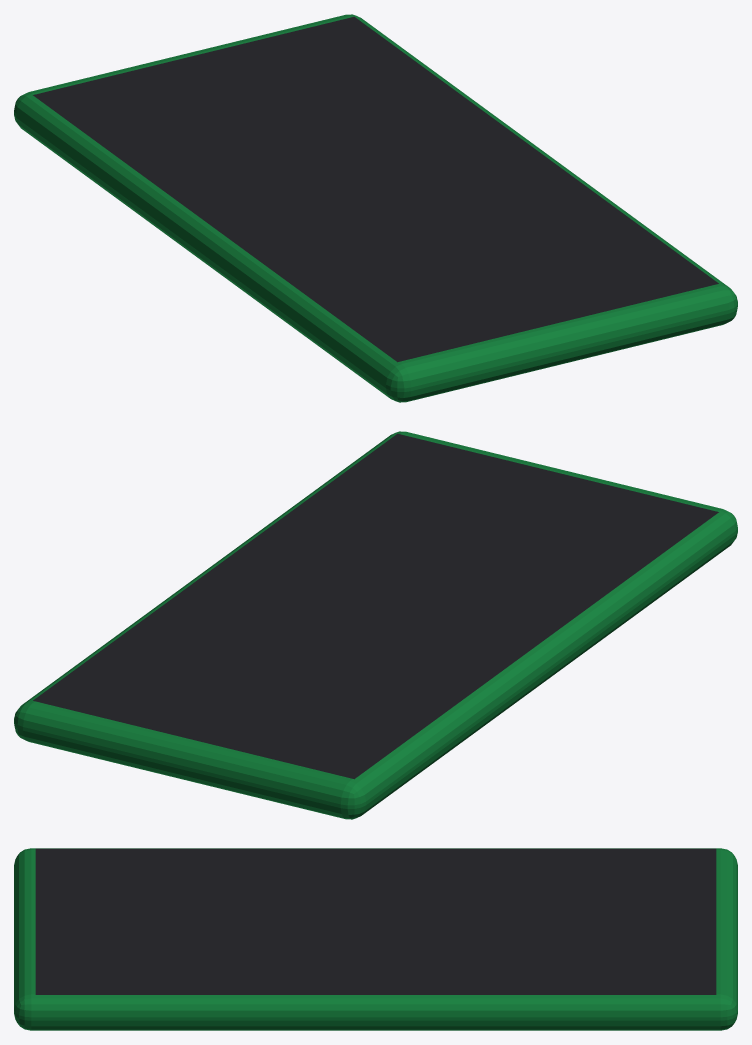
Rendered from oppo-f-model-342-flagship-2026.glb.
3 views of the same model, one above another, from view 1: azimuth 30°, elevation 25°; view 2: azimuth 150°, elevation 25°; view 3: azimuth 270°, elevation 25° (orthographic). The views are drawn at different scales.
Visible parts, largest first — view 1: Phone_Screen, Phone_Body; view 2: Phone_Screen, Phone_Body; view 3: Phone_Screen, Phone_Body.
Boxes of the visible parts, box(x1,y1,x2,y2) form: Phone_Screen: box(33, 16, 718, 362); Phone_Body: box(14, 14, 737, 402); Phone_Screen: box(33, 433, 718, 779); Phone_Body: box(14, 431, 737, 819); Phone_Screen: box(35, 848, 716, 994); Phone_Body: box(14, 848, 737, 1030).
Bounding box in the file's own units: 0.0788 × 0.0081 × 0.1515.
